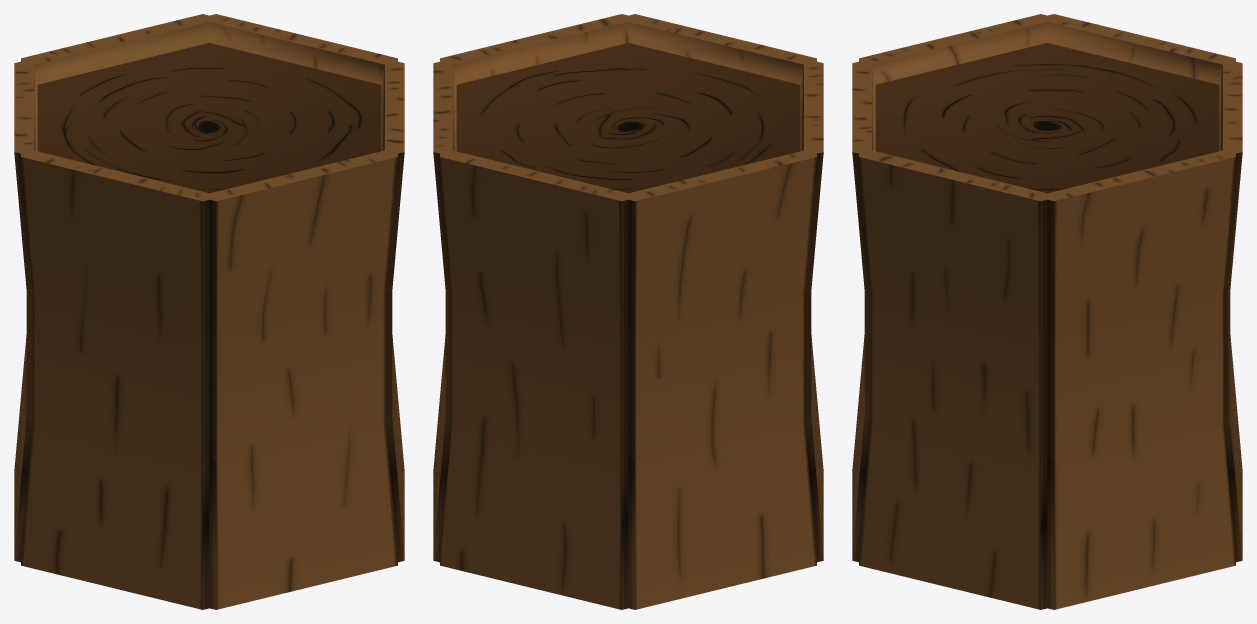
The model's file is wallWood.fbx.
The picture shows the model from 3 angles, left to right: view 1: azimuth 30°, elevation 25°; view 2: azimuth 150°, elevation 25°; view 3: azimuth 270°, elevation 25°; orthographic projection.
Parts seen in each view (by area): view 1: woodWall; view 2: woodWall; view 3: woodWall.
Boxes of the visible parts, x1=… form: woodWall: x1=14, y1=14, x2=404, y2=609; woodWall: x1=433, y1=14, x2=823, y2=609; woodWall: x1=852, y1=14, x2=1242, y2=609.
Bounding box in the file's own units: 1.97 × 2 × 1.73.
1 material, 1 textured.
